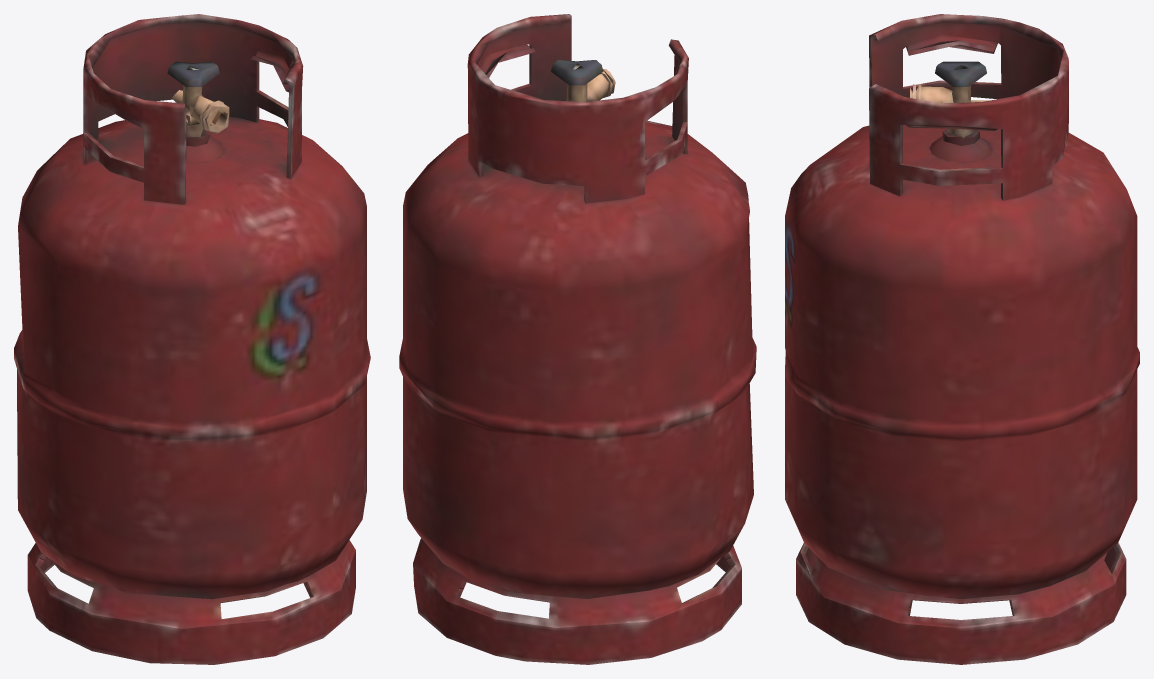
File: propane_tank.slim.glb
3 renders of one model, left to right at view 1: azimuth 30°, elevation 25°; view 2: azimuth 150°, elevation 25°; view 3: azimuth 270°, elevation 25°, orthographic.
Bounding box in the file's own units: 0.3344 × 0.5537 × 0.3319.
1 material, 1 textured.
